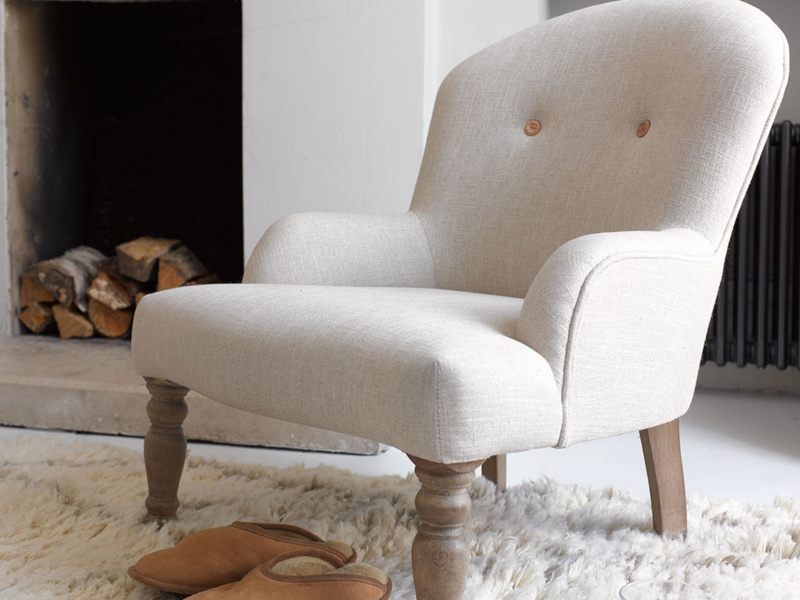chairs: (122, 5, 793, 598)
